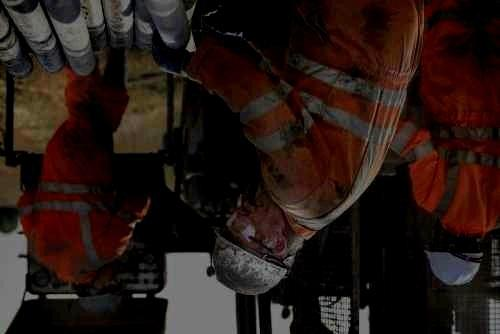helmet: (212, 183, 304, 296), (424, 226, 484, 286), (74, 269, 123, 315)
